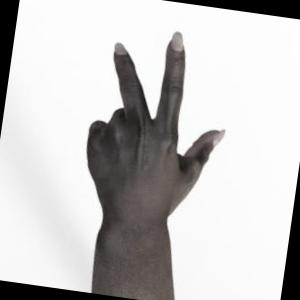scissors: (87, 32, 225, 300)
